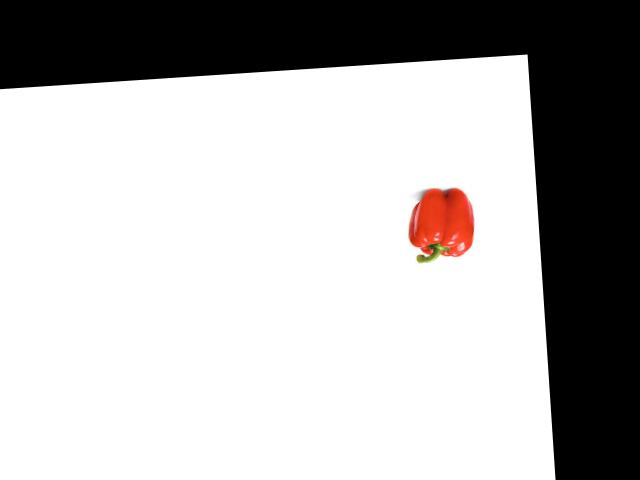bell_pepper: (405, 184, 478, 265)
